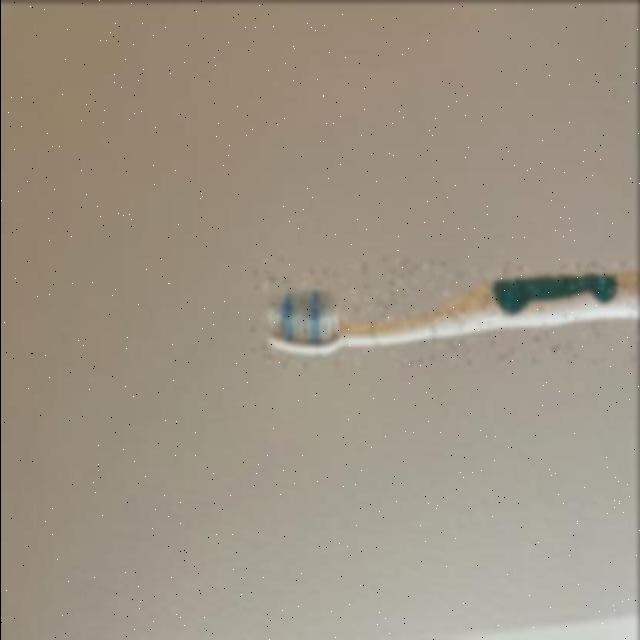toothbrush: (252, 258, 640, 366)
